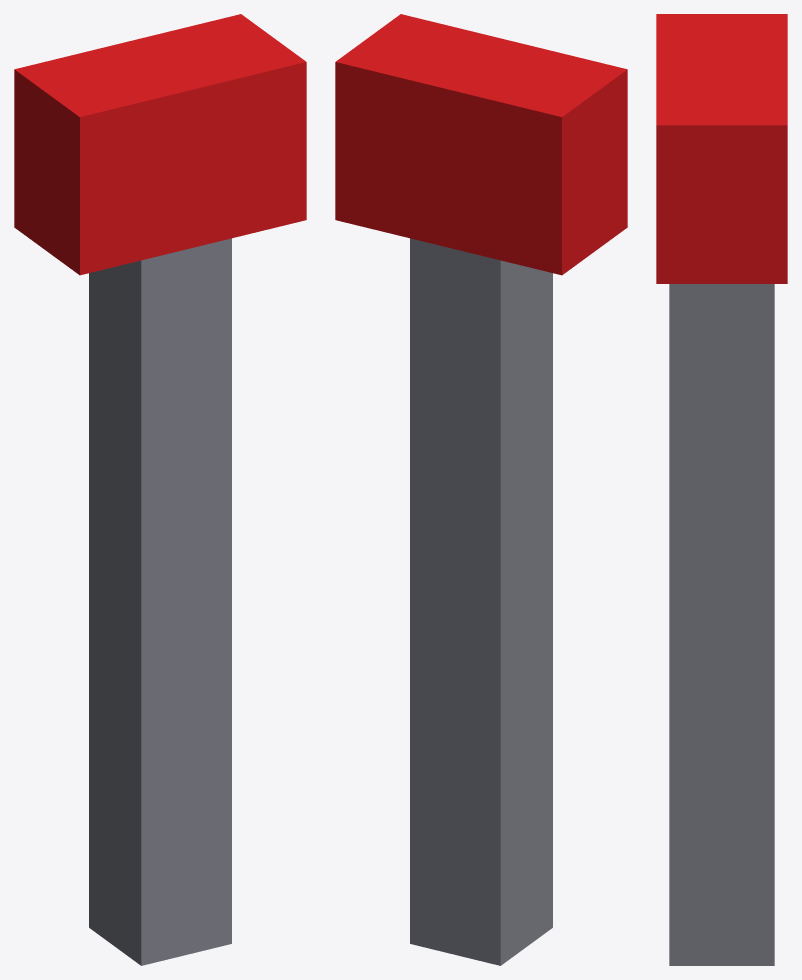
The model's file is item_F2_Tool.obj.
3 views of the same model, side by side, from view 1: azimuth 30°, elevation 25°; view 2: azimuth 150°, elevation 25°; view 3: azimuth 270°, elevation 25° (orthographic).
Parts seen in each view (by area): view 1: Item_F2_Tool, Item_F2_Tool_Head; view 2: Item_F2_Tool, Item_F2_Tool_Head; view 3: Item_F2_Tool, Item_F2_Tool_Head.
Boxes of the visible parts, bbox=[...] form: Item_F2_Tool: bbox=[89, 238, 231, 965]; Item_F2_Tool_Head: bbox=[14, 14, 306, 275]; Item_F2_Tool: bbox=[410, 238, 552, 965]; Item_F2_Tool_Head: bbox=[335, 14, 627, 275]; Item_F2_Tool: bbox=[669, 284, 774, 965]; Item_F2_Tool_Head: bbox=[656, 14, 787, 283].
Bounding box in the file's own units: 0.06 × 0.22 × 0.03.
